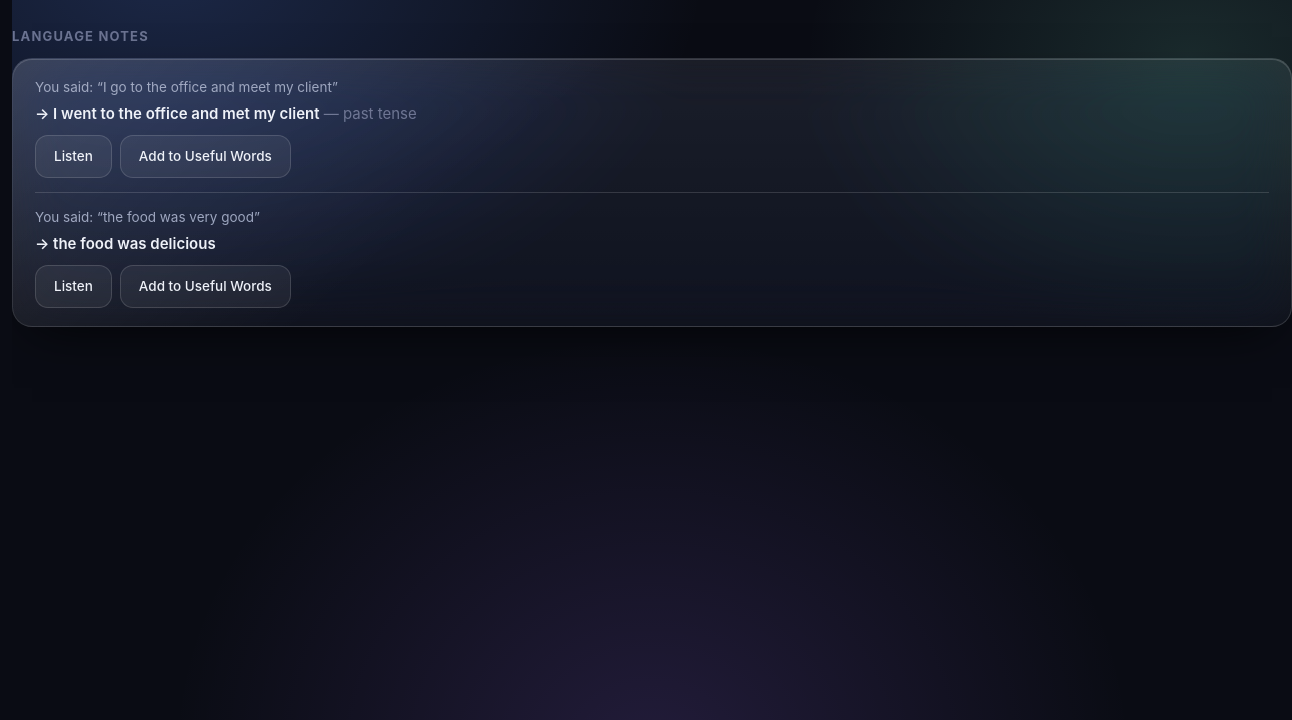
Test case: LanguageNotes — Add to Useful Words (C12) › добавленное — кнопка говорит «добавлено» и больше не жмётся
The width and height of the screenshot is (1292, 720).
Click the button "Add to Useful Words" below "the food was very good".
click(205, 287)  # box [120,265,291,308]
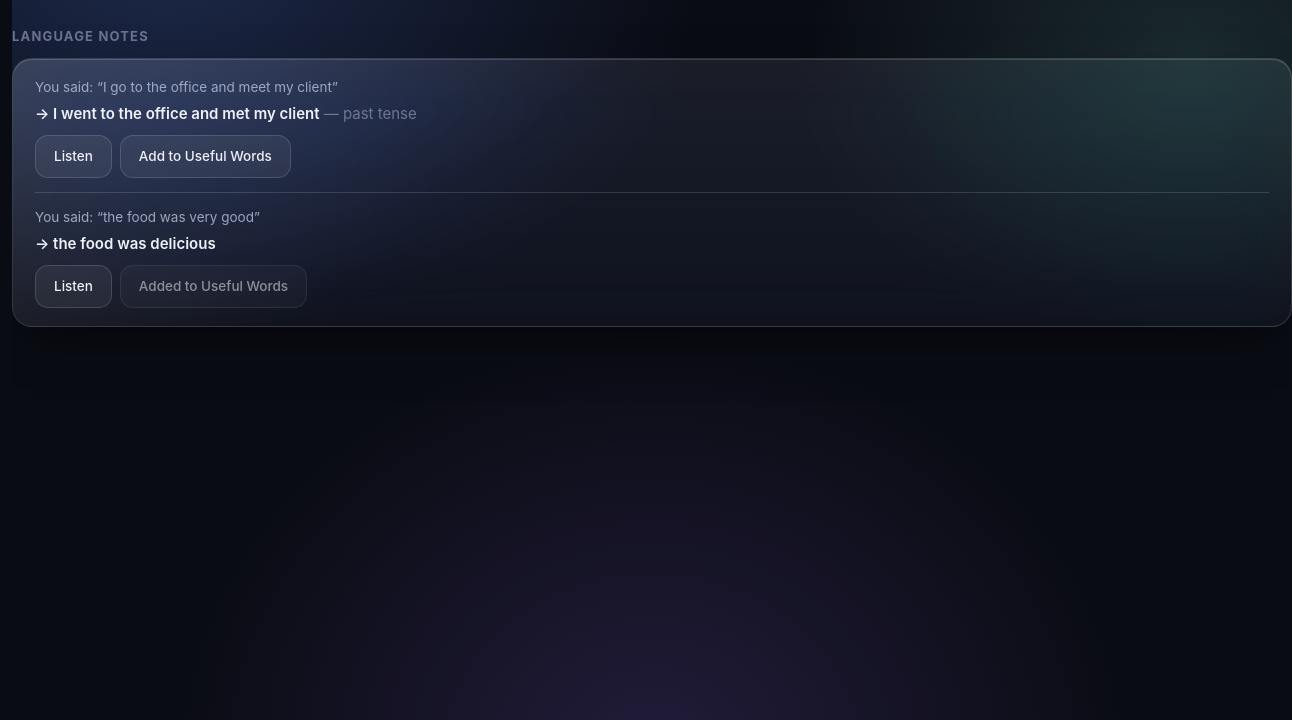
Result: the button "Added to Useful Words" is disabled at [120,265,307,308]
